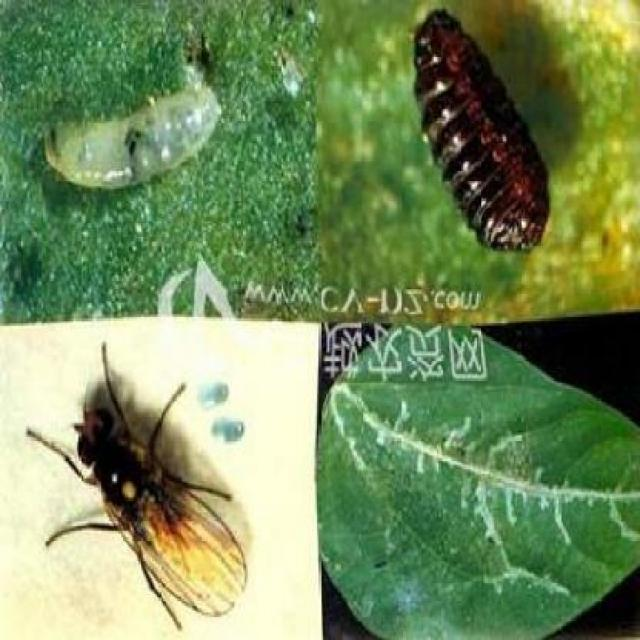whorl-maggot: (400, 5, 571, 260), (36, 78, 232, 200)
